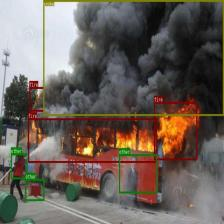fire: (28, 118, 156, 162), (154, 102, 197, 160), (29, 87, 44, 111)
smoke: (43, 0, 223, 115)
